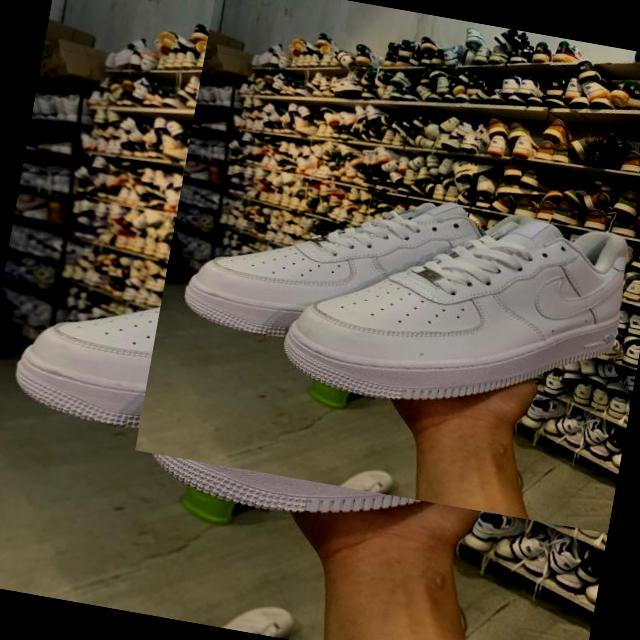nike_fake_airforce: (275, 172, 640, 437), (176, 154, 548, 386)
